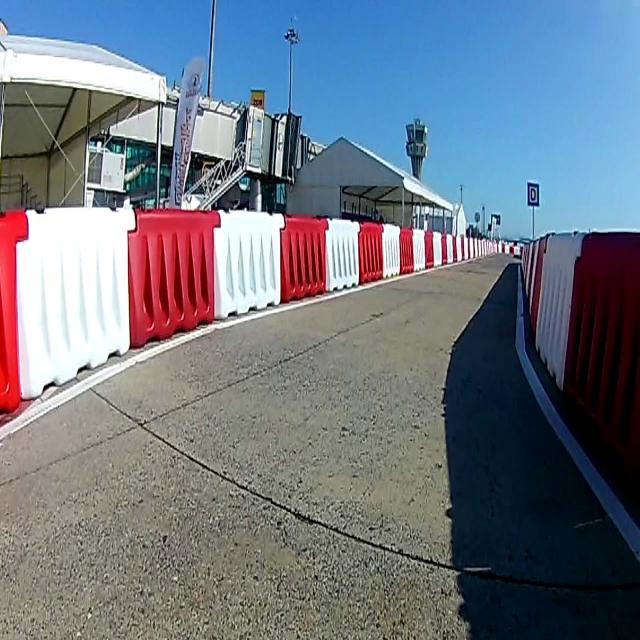durak: (526, 181, 539, 207)
